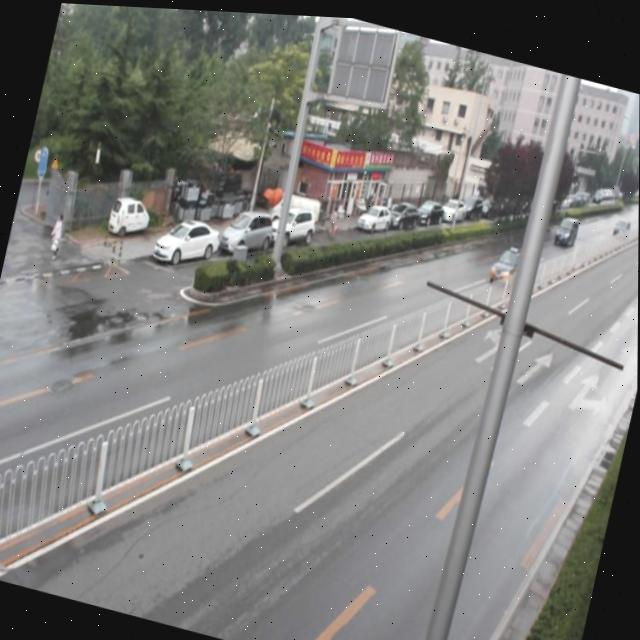car: (486, 234, 531, 283)
